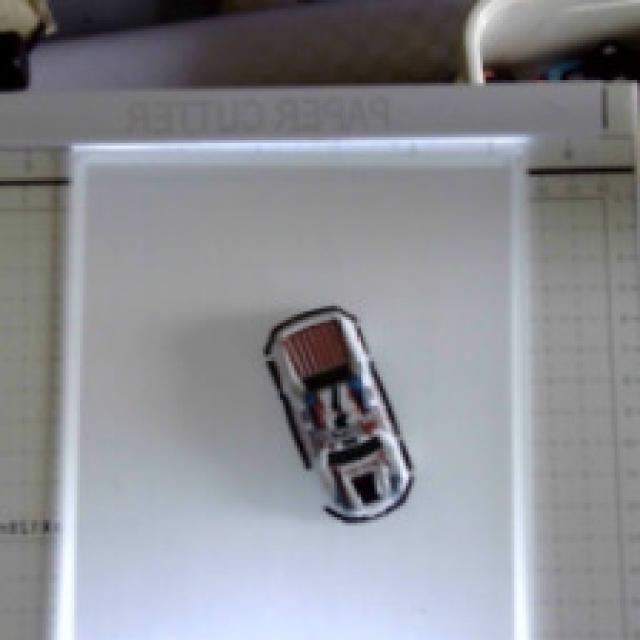Grey Car: (225, 272, 443, 541)
